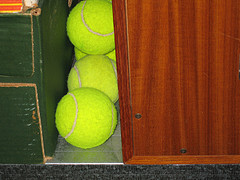tennis ball: (54, 87, 117, 150), (65, 1, 115, 54), (66, 54, 119, 104)
